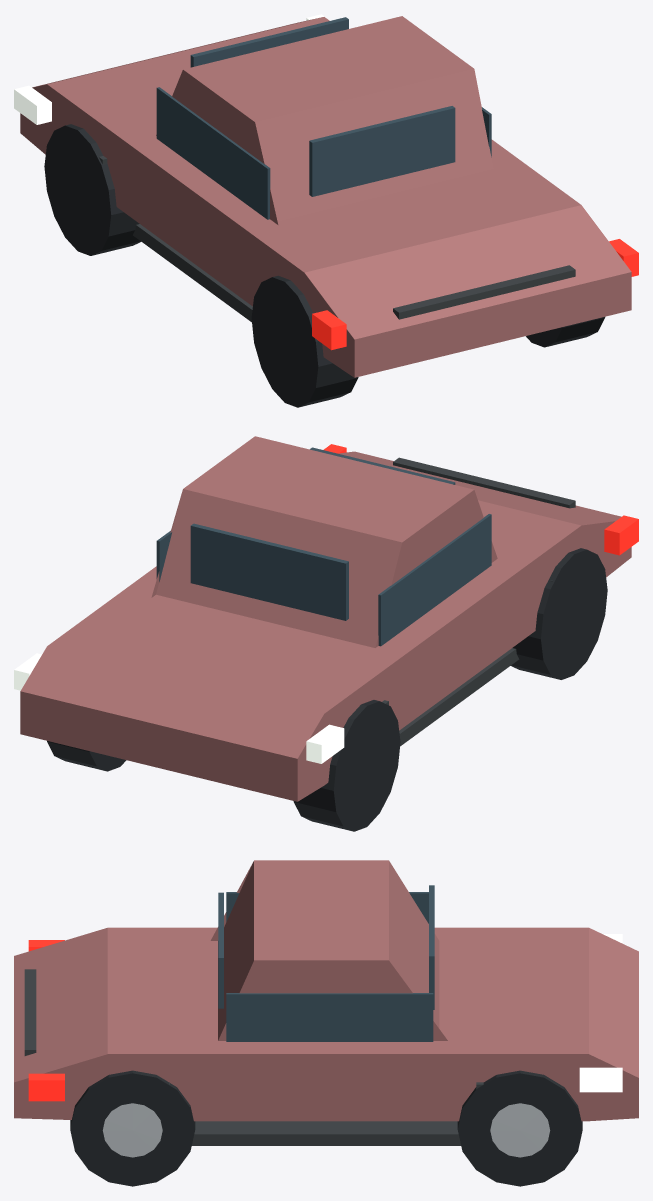
The model's file is mazda3-sport-15-luxury.glb.
3 renders of one model, top to bottom at view 1: azimuth 30°, elevation 25°; view 2: azimuth 150°, elevation 25°; view 3: azimuth 270°, elevation 25°, orthographic. The views are drawn at different scales.
Visible parts, largest first — view 1: mazda3-sport-15-luxury illustrative model; view 2: mazda3-sport-15-luxury illustrative model; view 3: mazda3-sport-15-luxury illustrative model.
Part boxes in pixels (x1,y1,x2,y2): mazda3-sport-15-luxury illustrative model: [14, 14, 638, 407]; mazda3-sport-15-luxury illustrative model: [14, 436, 638, 831]; mazda3-sport-15-luxury illustrative model: [14, 860, 638, 1186].
Bounding box in the file's own units: 2.02 × 1.41 × 3.8.
